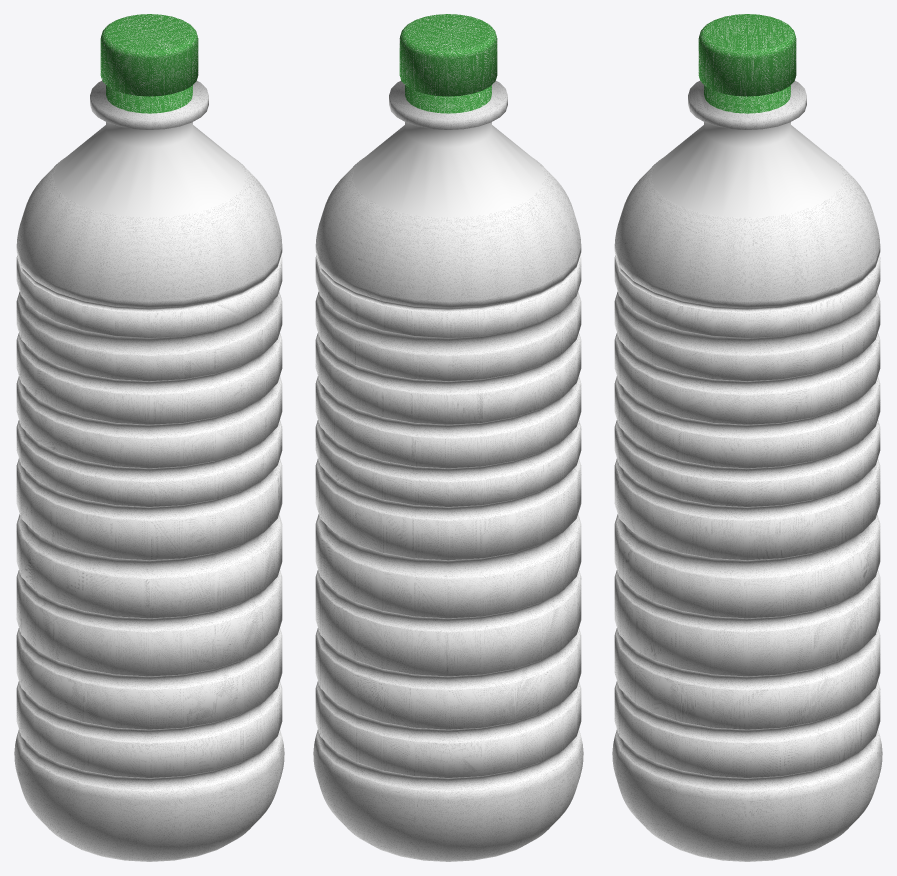
3 renders of one model, left to right at view 1: azimuth 30°, elevation 25°; view 2: azimuth 150°, elevation 25°; view 3: azimuth 270°, elevation 25°, orthographic.
Parts seen in each view (by area): view 1: mesh1_mesh1-geometry; view 2: mesh1_mesh1-geometry; view 3: mesh1_mesh1-geometry.
Part boxes in pixels (bbox=[...]): mesh1_mesh1-geometry: bbox=[14, 14, 284, 861]; mesh1_mesh1-geometry: bbox=[313, 14, 583, 861]; mesh1_mesh1-geometry: bbox=[612, 14, 882, 861].
Bounding box in the file's own units: 0.2812 × 0.9175 × 0.2812.
